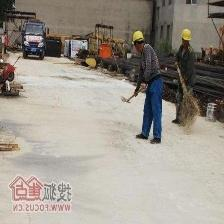Person: (128, 29, 164, 146), (173, 28, 196, 126)
helmet: (132, 31, 144, 44), (180, 31, 192, 42)
no-vest: (140, 47, 157, 79), (177, 47, 192, 75)
